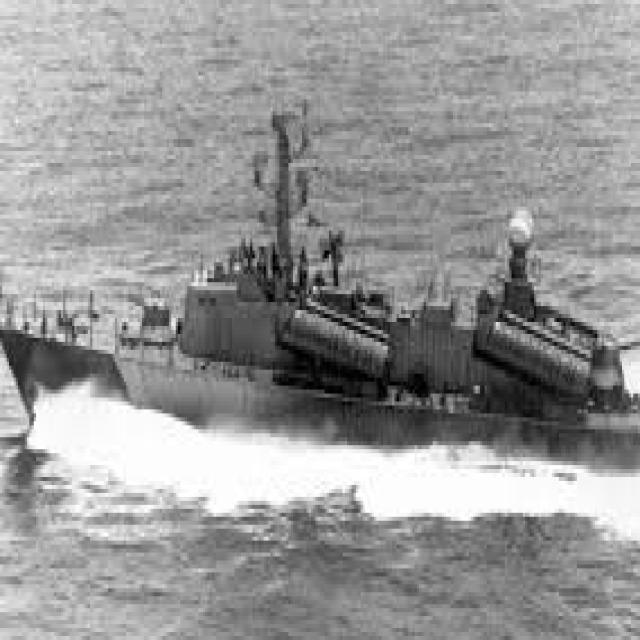navalvessels: (5, 104, 630, 456)
